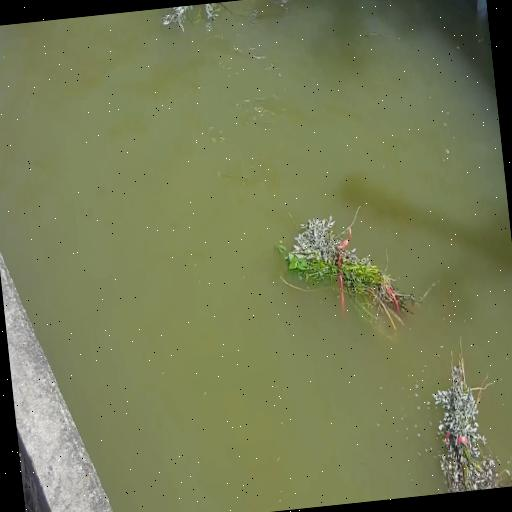twig: (275, 202, 423, 340), (424, 332, 505, 492), (162, 3, 226, 36)
